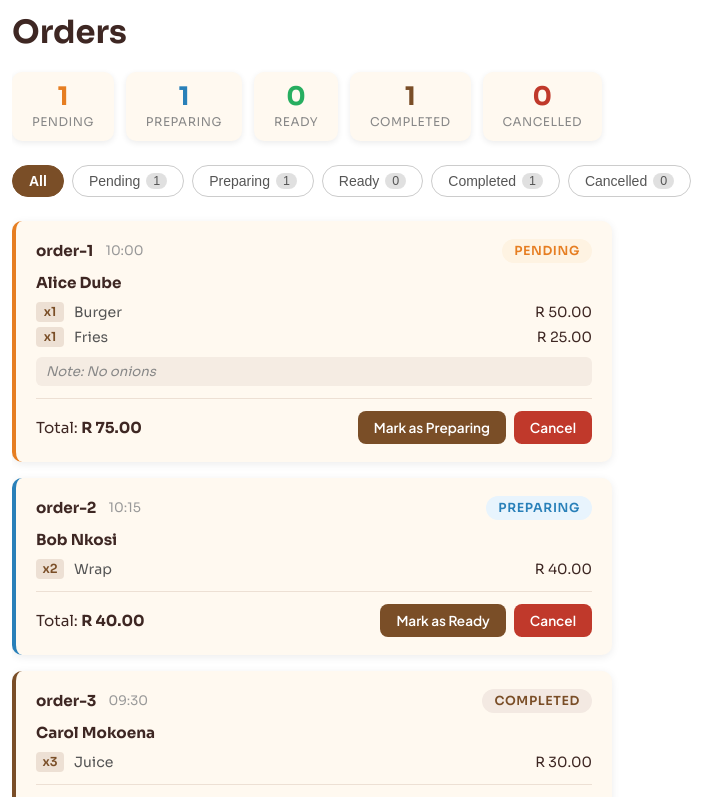
Test case: Orders – filtering › shows empty state message when no orders match the filter
The width and height of the screenshot is (708, 797).
Check: the text "Alice Dube" is shown, box [36, 273, 121, 292]
Click the button "Ready 0" at (373, 181), box [322, 165, 423, 197]
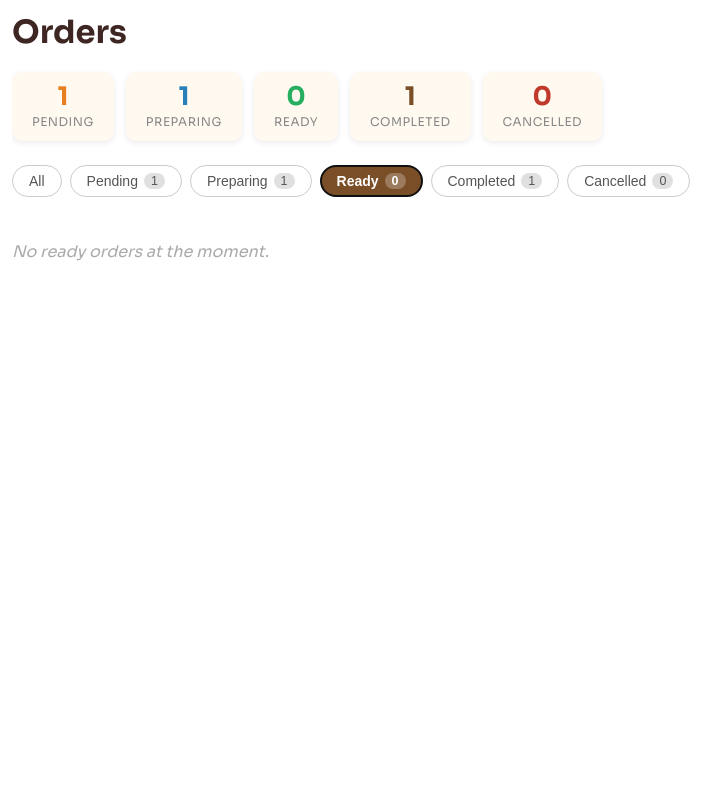
Check: the text "No ready orders at the moment." is shown, box [12, 241, 269, 262]
